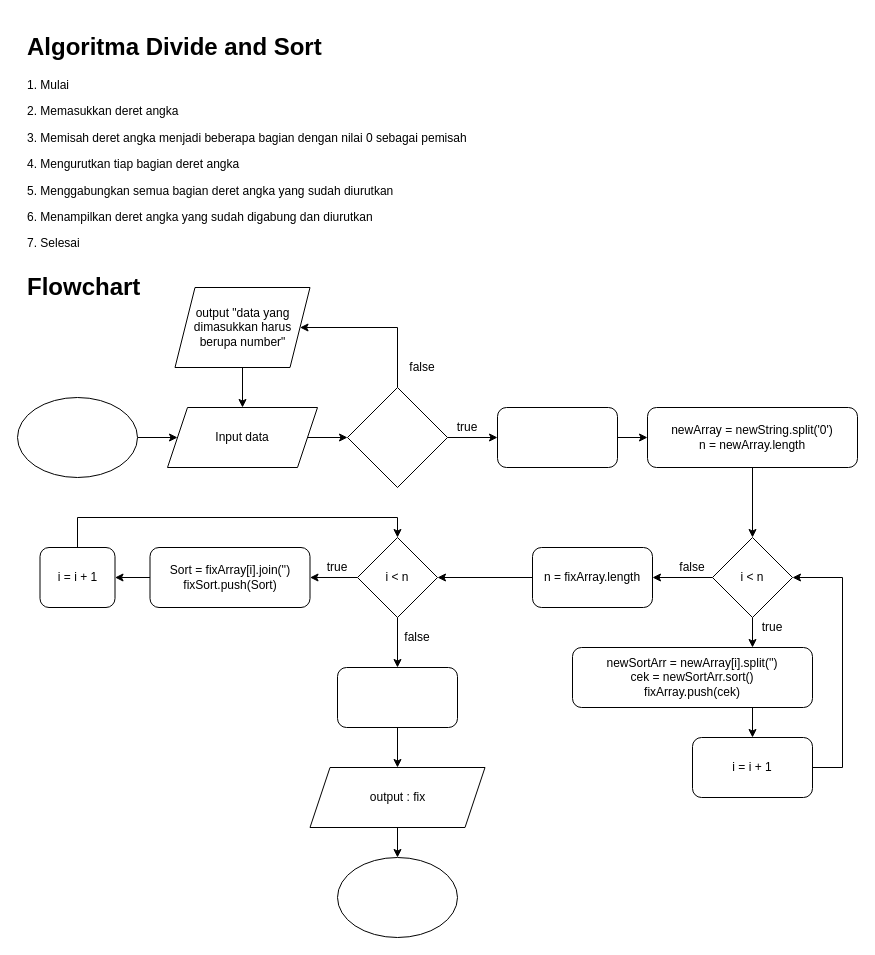
This 875x955 diagram has some shape labels left out. Each missing label, with the centre of its shape:
"fix = fixSort.join('') fix = parseInt(fix)" belongs at [397,697].
"Mulai / Start" belongs at [77,437].
"newString = data.toString()" belongs at [557,437].
"Selesai / End" belongs at [397,897].
"type data == number" belongs at [397,437].
